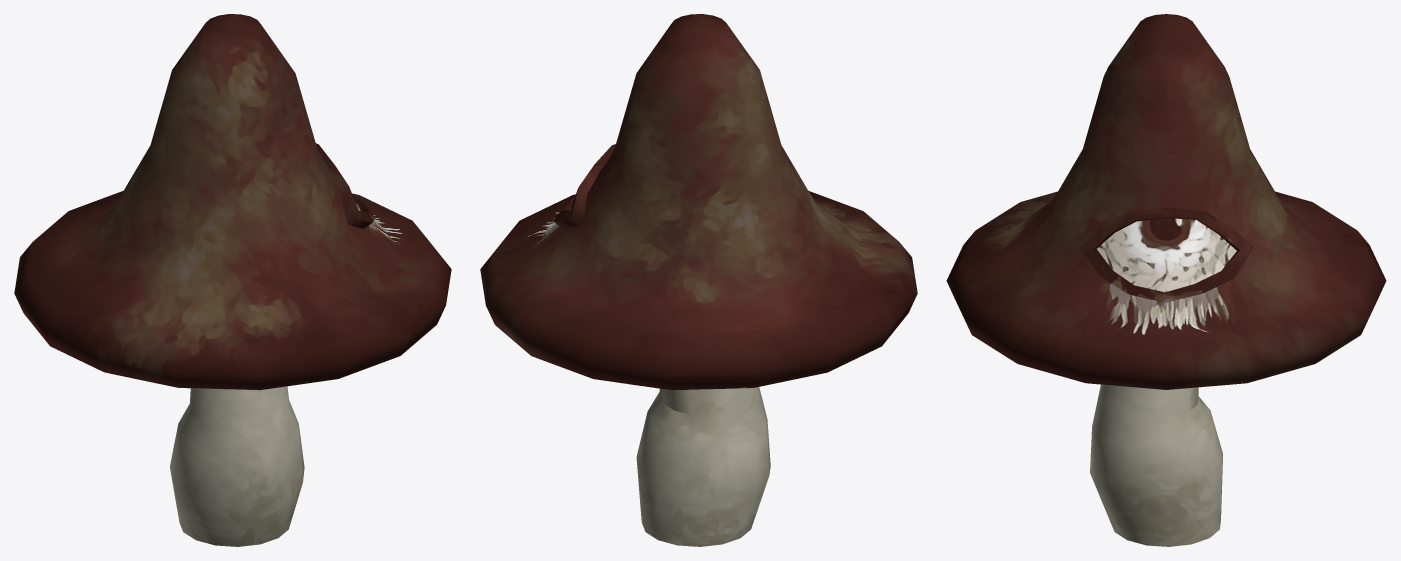
Rendered from grzyb_1.obj.
3 renders of one model, left to right at view 1: azimuth 30°, elevation 25°; view 2: azimuth 150°, elevation 25°; view 3: azimuth 270°, elevation 25°, orthographic.
Visible parts, largest first — view 1: Circle.003; view 2: Circle.003; view 3: Circle.003.
Boxes of the visible parts, bbox=[...] form: Circle.003: bbox=[14, 14, 451, 546]; Circle.003: bbox=[480, 14, 917, 546]; Circle.003: bbox=[946, 14, 1386, 546].
Bounding box in the file's own units: 19.65 × 25.01 × 19.65.
1 material, 1 textured.
